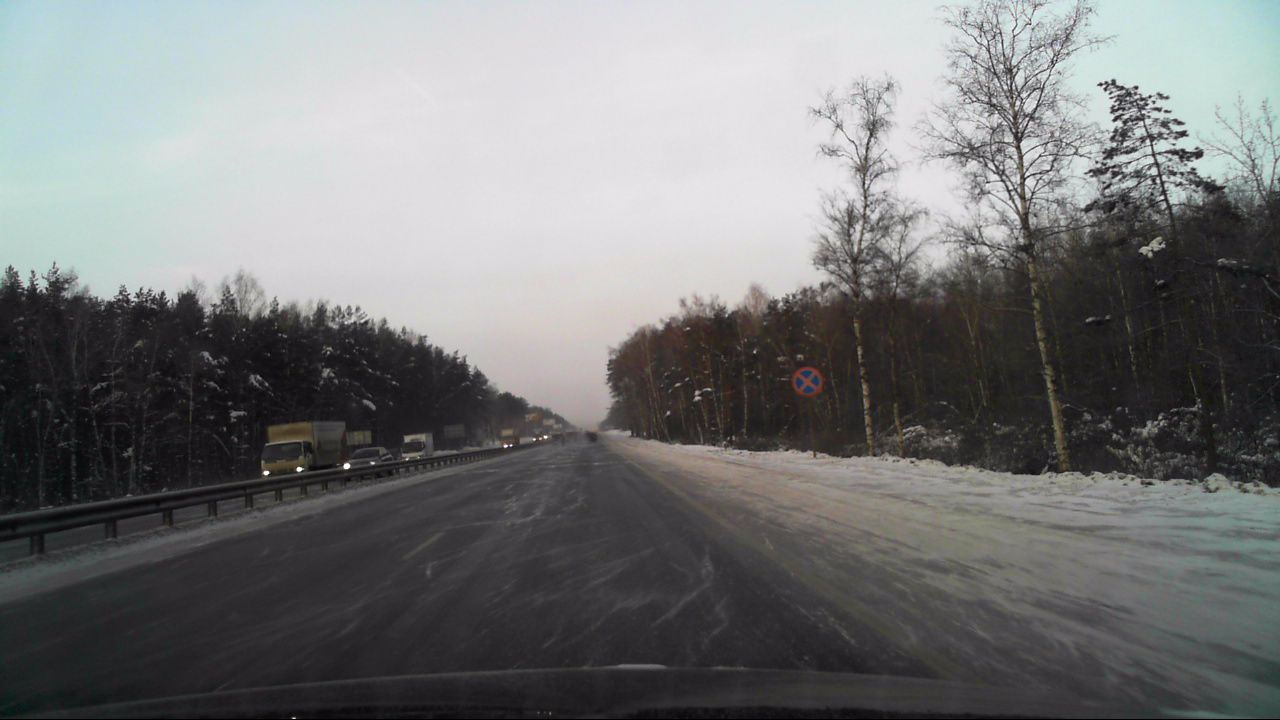No Parking: (790, 366, 824, 398)
